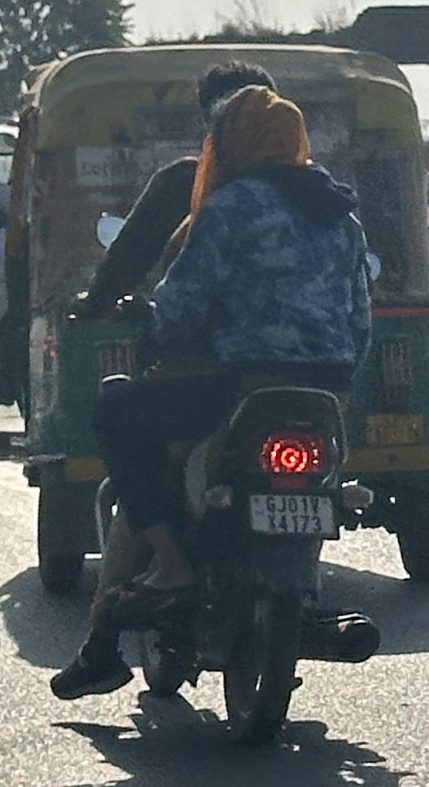BikeWithRider: (42, 47, 392, 752)
NoHelmet: (202, 83, 319, 193), (186, 56, 285, 148)
